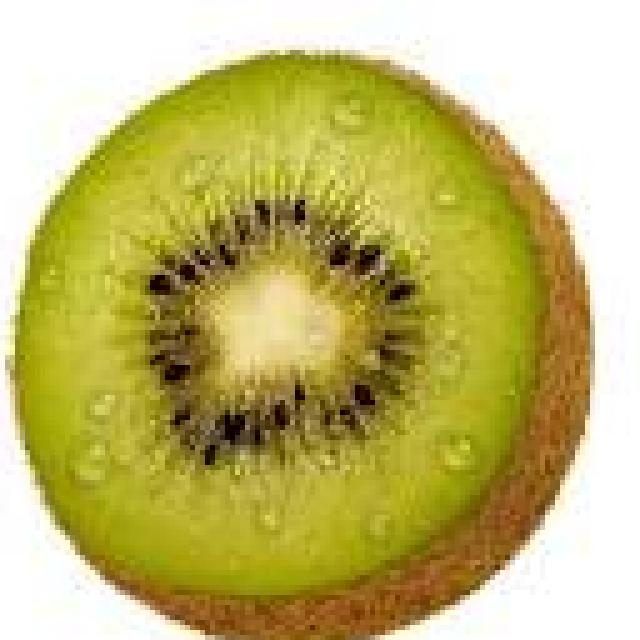kiwi: (0, 35, 600, 640)
